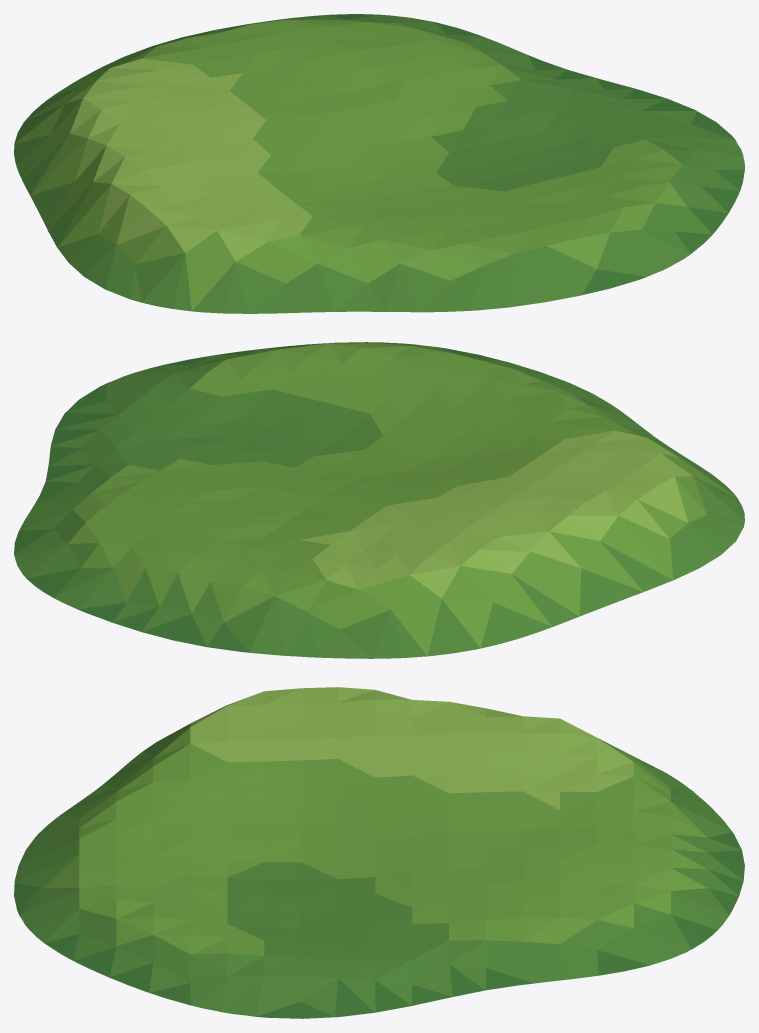
The model's file is plain_terrain.glb.
3 views of the same model, one above another, from view 1: azimuth 30°, elevation 25°; view 2: azimuth 150°, elevation 25°; view 3: azimuth 270°, elevation 25° (orthographic).
Parts seen in each view (by area): view 1: plain_terrain; view 2: plain_terrain; view 3: plain_terrain.
Part boxes in pixels (x1=…): plain_terrain: x1=14, y1=14, x2=744, y2=313; plain_terrain: x1=14, y1=342, x2=744, y2=658; plain_terrain: x1=14, y1=687, x2=744, y2=1018.
Bounding box in the file's own units: 9.91 × 0.8441 × 9.88.
